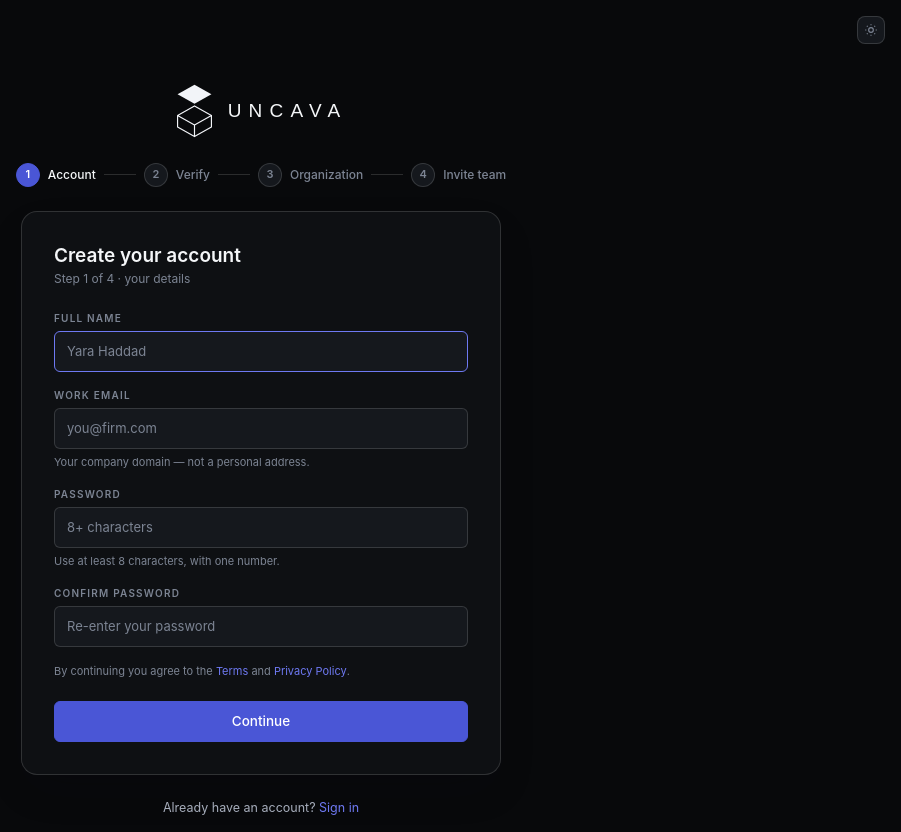
Test: SignupPage › puts a rejected work email on the email field
Type "Alok Kumar" into the field with placeholder "Yara Haddad" at {"x": 261, "y": 352}, box [54,332,468,372]
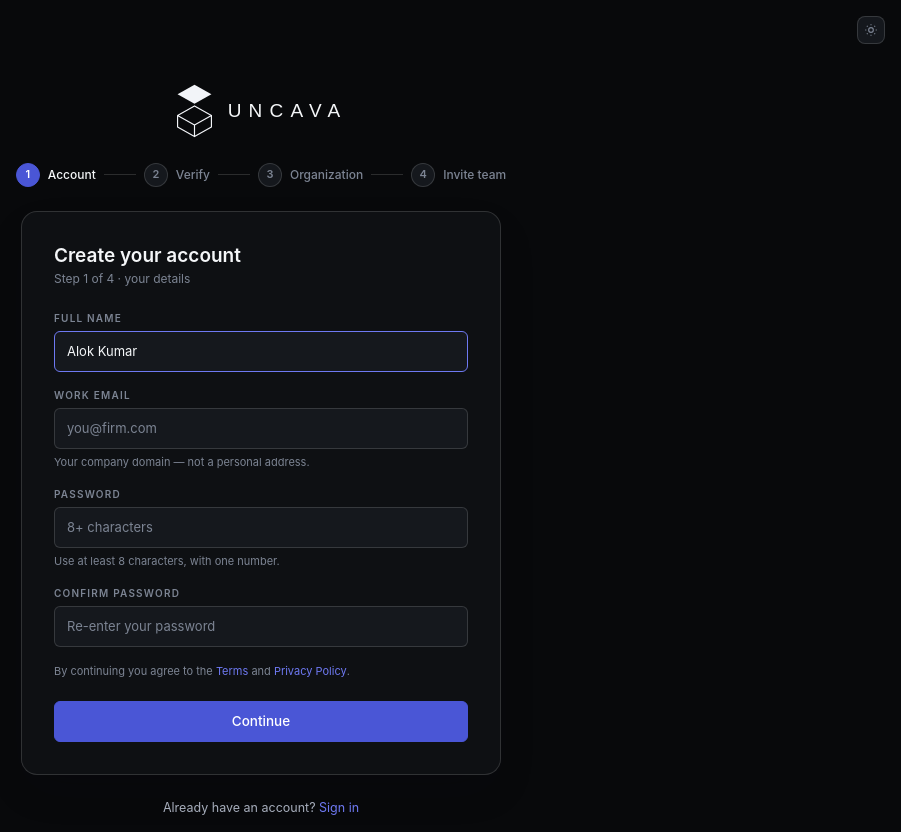
Type "alok@gmail.com" into the field with placeholder "you@firm.com" at {"x": 261, "y": 429}, box [54,408,468,449]
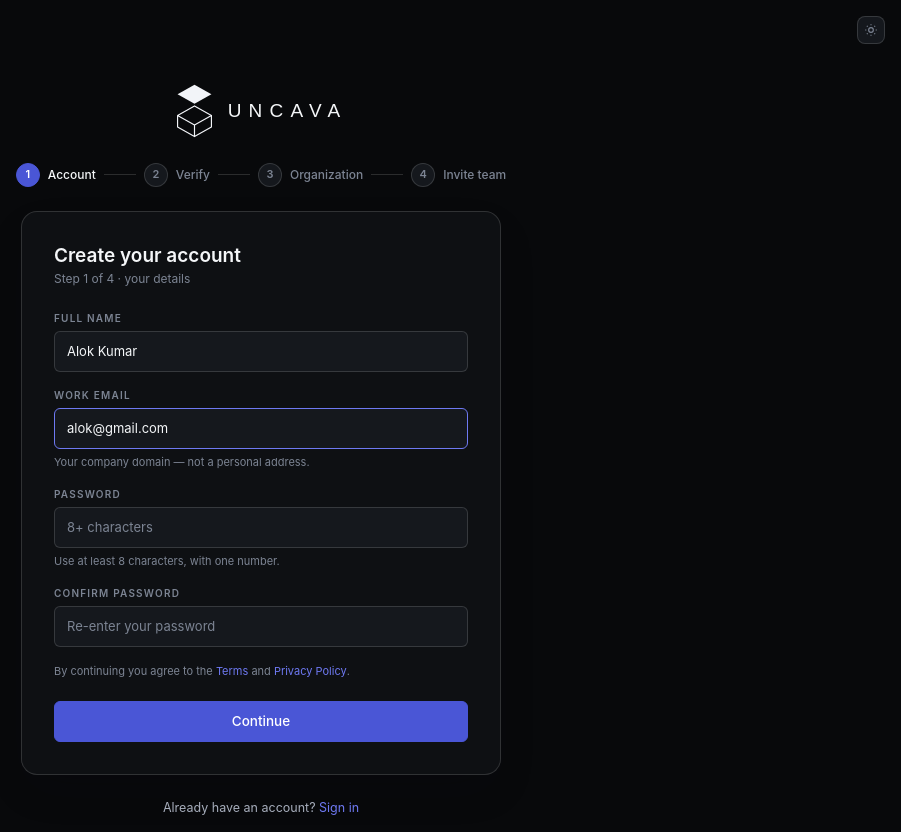
Type "secret123" into the password field with placeholder "8+ characters" at {"x": 261, "y": 528}, box [54,507,468,548]
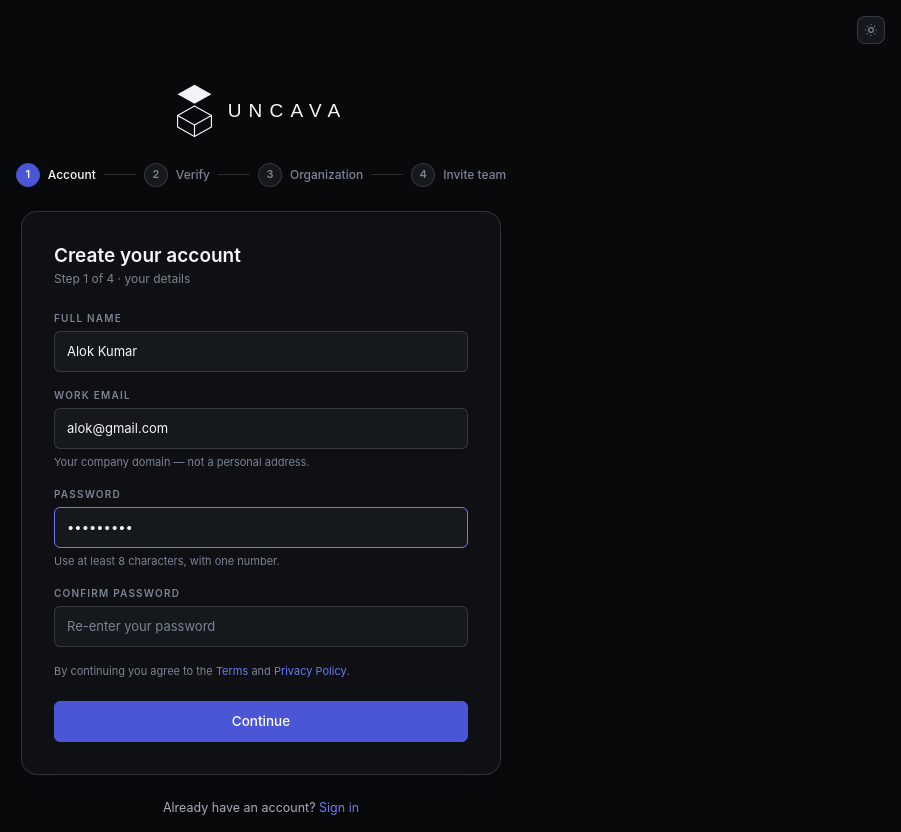
Type "secret123" into the password field with placeholder "Re-enter your password" at {"x": 261, "y": 626}, box [54,606,468,647]
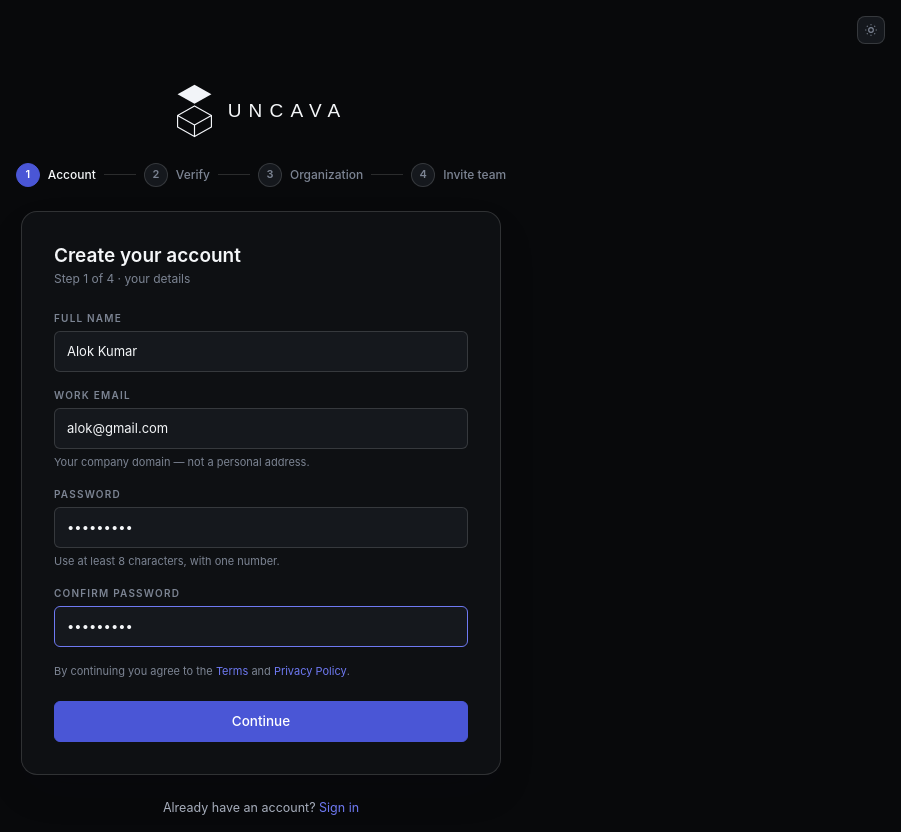
Click the button "Continue" at {"x": 261, "y": 721}, box [54,701,468,742]
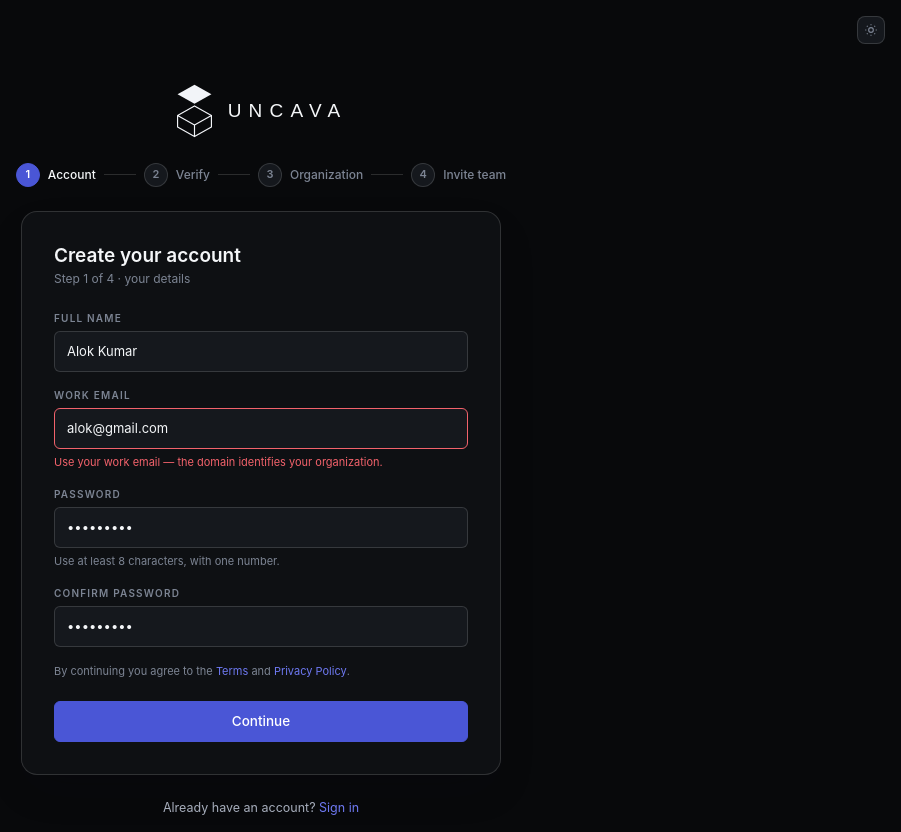
Result: the text "Use your work email — the domain identifies your organization." is shown at [54,455,383,469]
